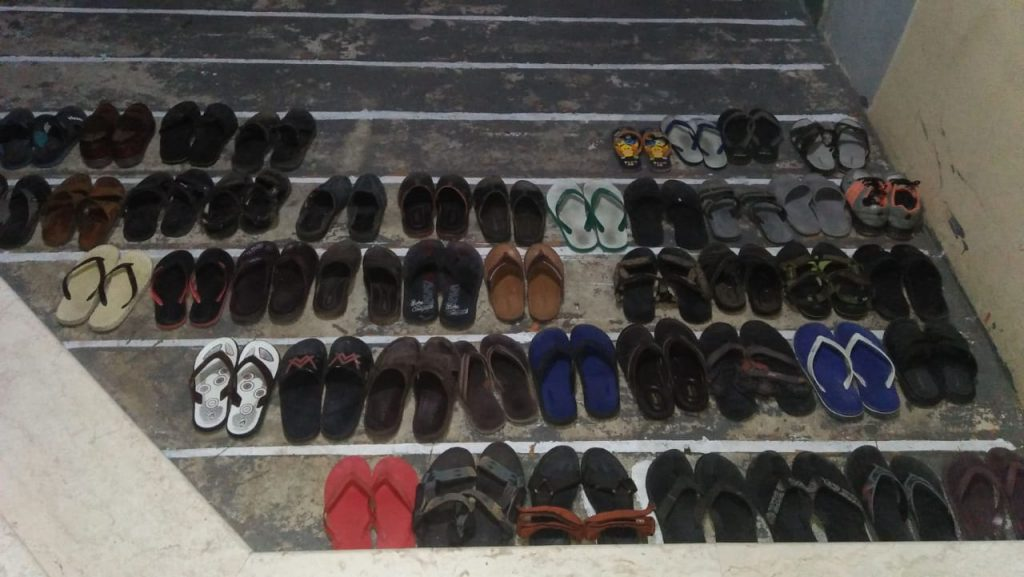sandal: (650, 450, 1019, 542), (463, 332, 715, 427), (155, 238, 409, 330), (783, 308, 909, 430), (664, 96, 800, 178), (183, 334, 281, 442), (316, 449, 416, 552), (55, 243, 151, 334), (539, 168, 626, 258), (395, 159, 471, 244)
sepatu: (830, 152, 931, 244), (76, 85, 154, 171)
